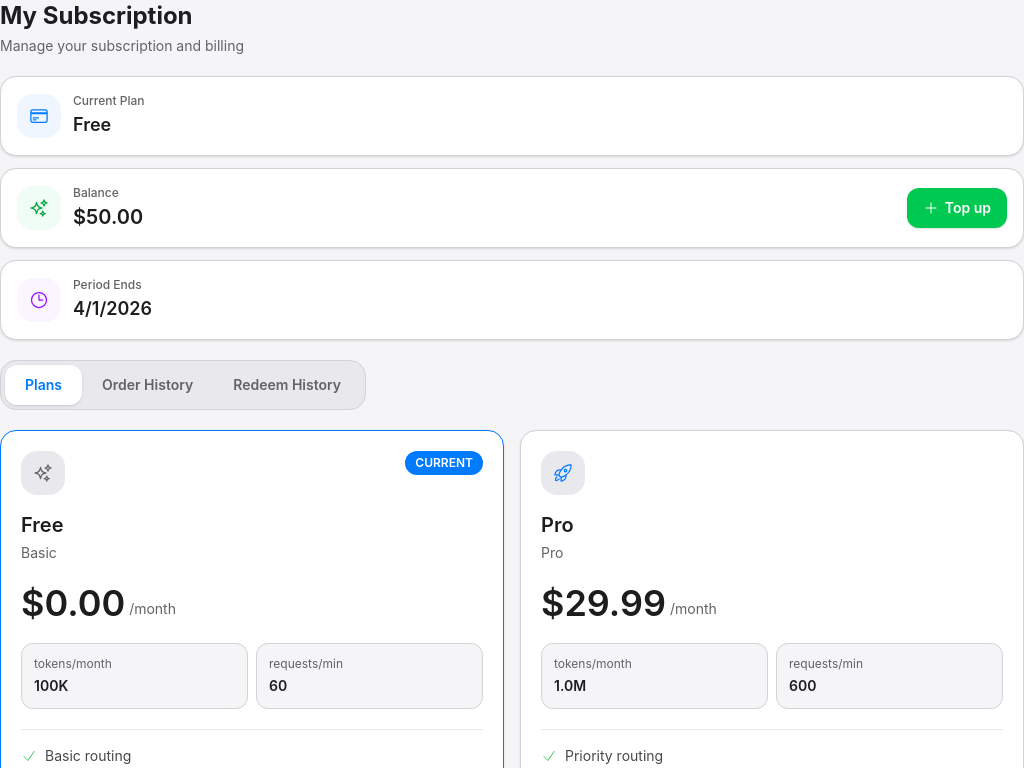
Test: SubscriptionPage › shows gift card recharge records in redeem history
Click the button "Redeem History": (287, 385) [213,365,361,405]
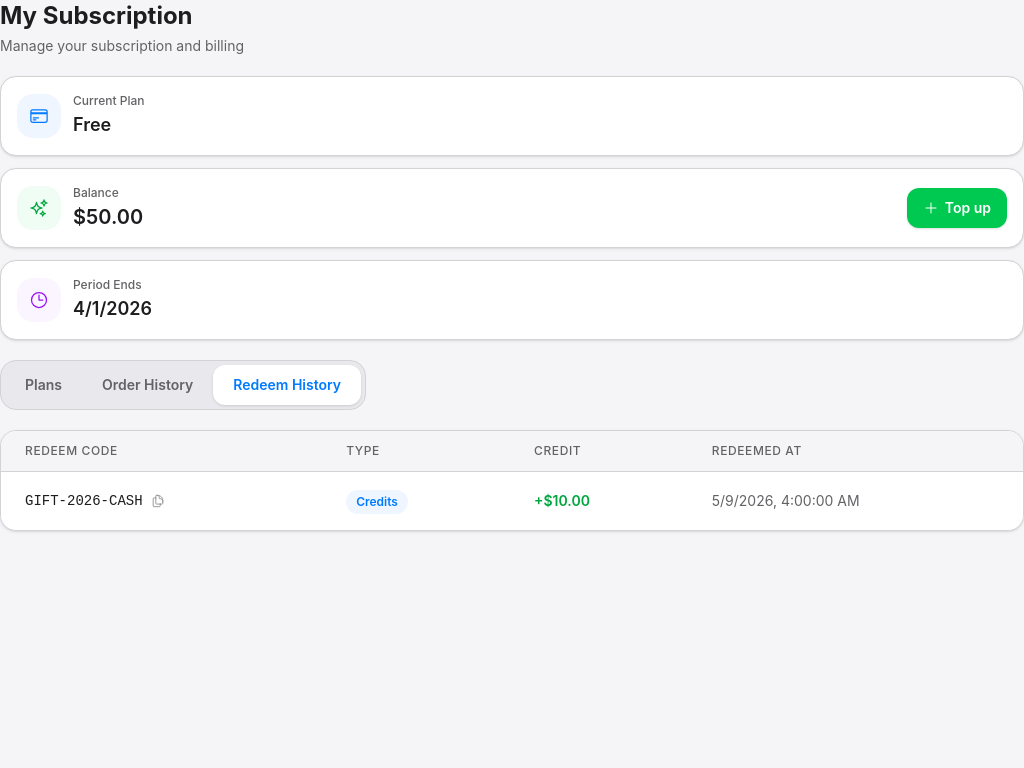
expect the text "GIFT-2026-CASH" is shown: met, box [25,491,143,511]
expect the text "+$10.00" is shown: met, box [510,472,688,530]
